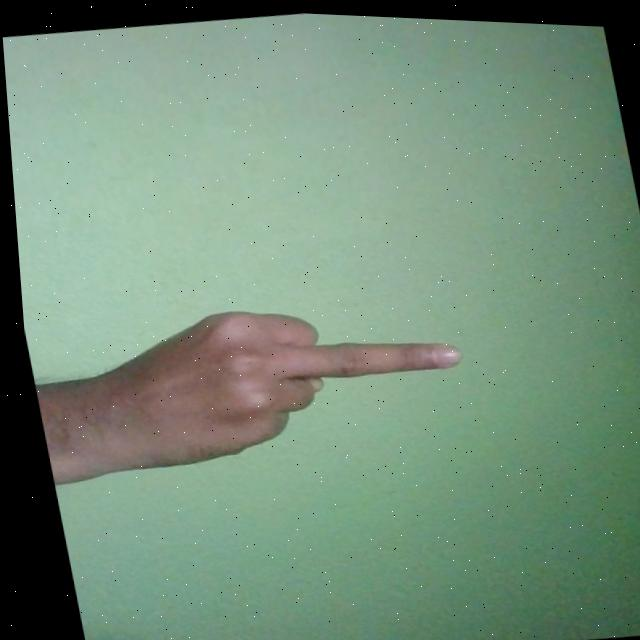Middle Finger: (29, 276, 476, 490)
